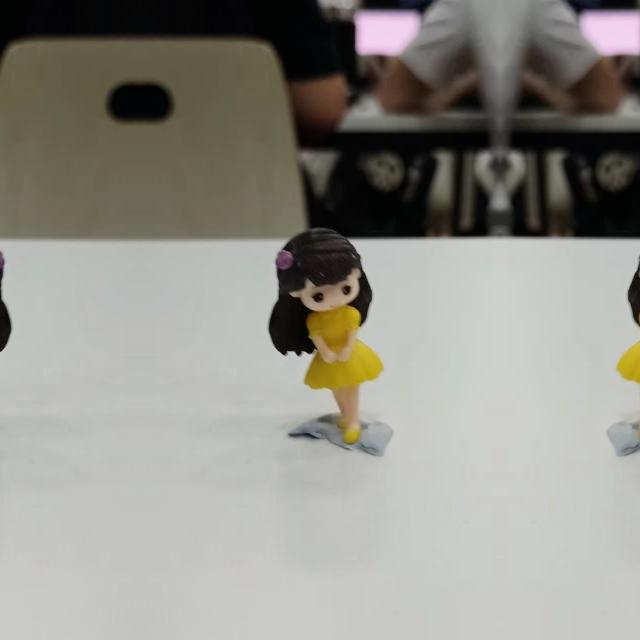woman head: (265, 225, 367, 315), (0, 225, 15, 315), (633, 225, 640, 315)
